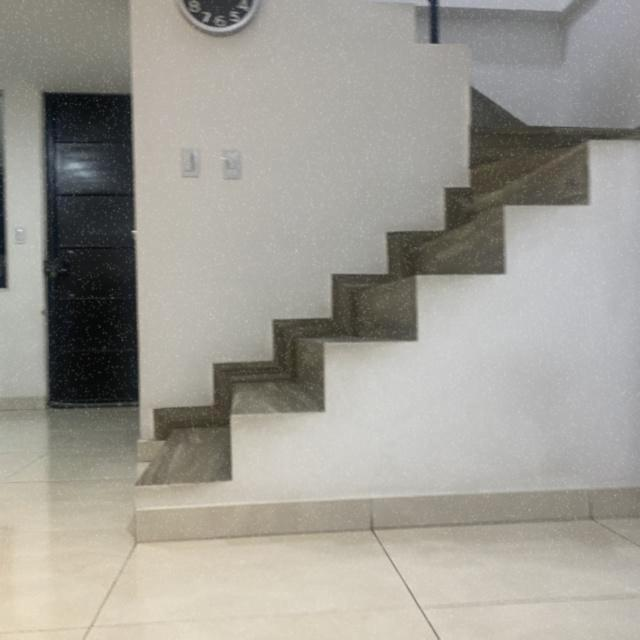stair: (117, 101, 635, 546)
